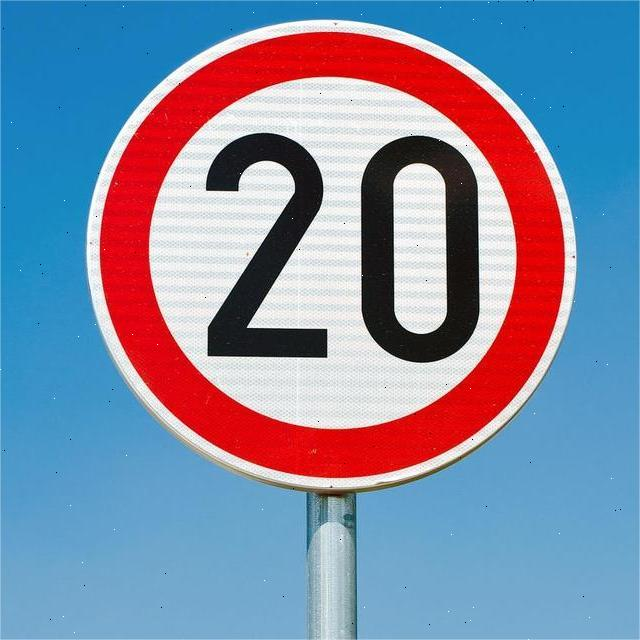speed limit 20: (89, 19, 576, 490)
